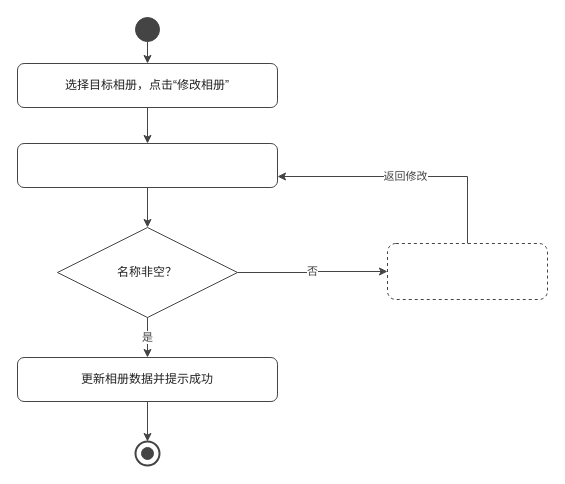
The diagram is 565 pixels wide and 484 high, and some of its shapes have lost their labels. Here are the shapes that lost their labels. From the top down, the centre of each, then its label:
point 147,165: 加载原相册信息并进行修改
point 467,271: 提示“相册名称不能为空”
